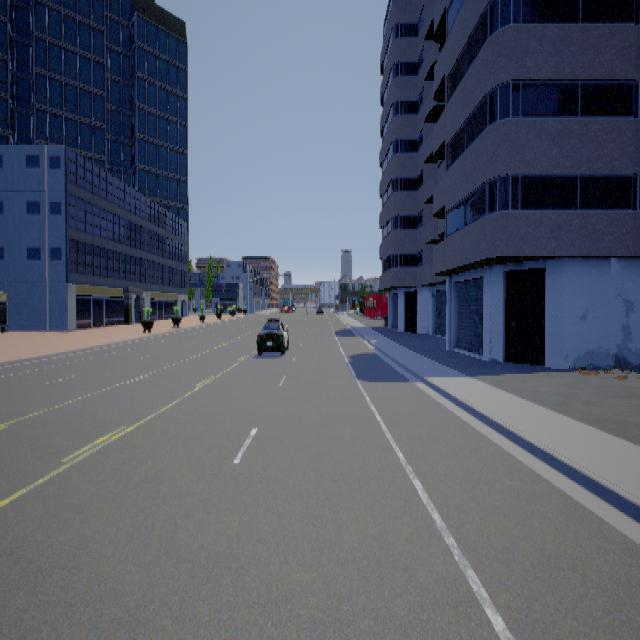vehicle: (255, 316, 288, 354)
